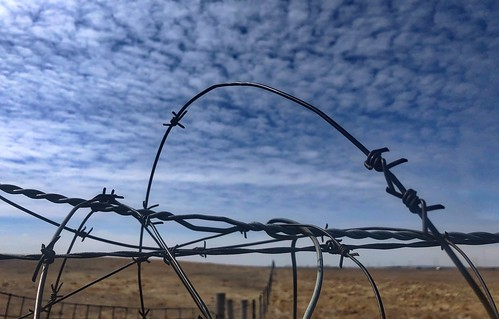barbed wire: (1, 87, 499, 319)
sky: (1, 1, 488, 216)
